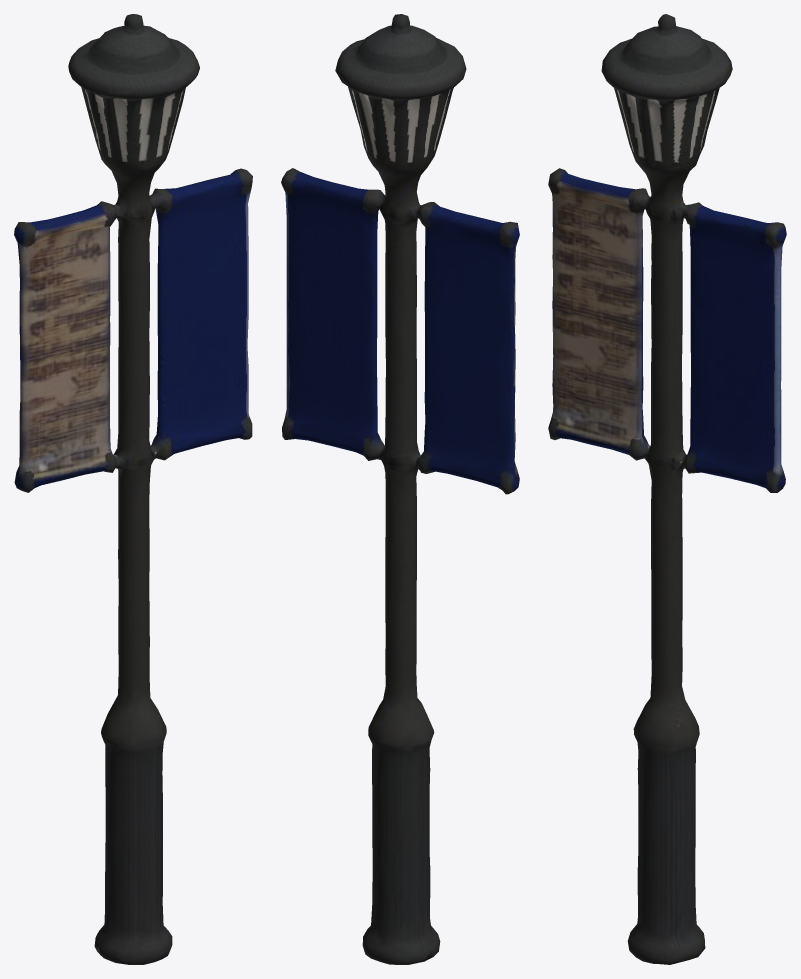
The model's file is lamp_post_banner.glb.
3 views of the same model, side by side, from view 1: azimuth 30°, elevation 25°; view 2: azimuth 150°, elevation 25°; view 3: azimuth 330°, elevation 25° (orthographic).
Size of the model in its own units: 0.264 by 1.01 by 0.1273.
Materials: 1 (1 with a texture image).
